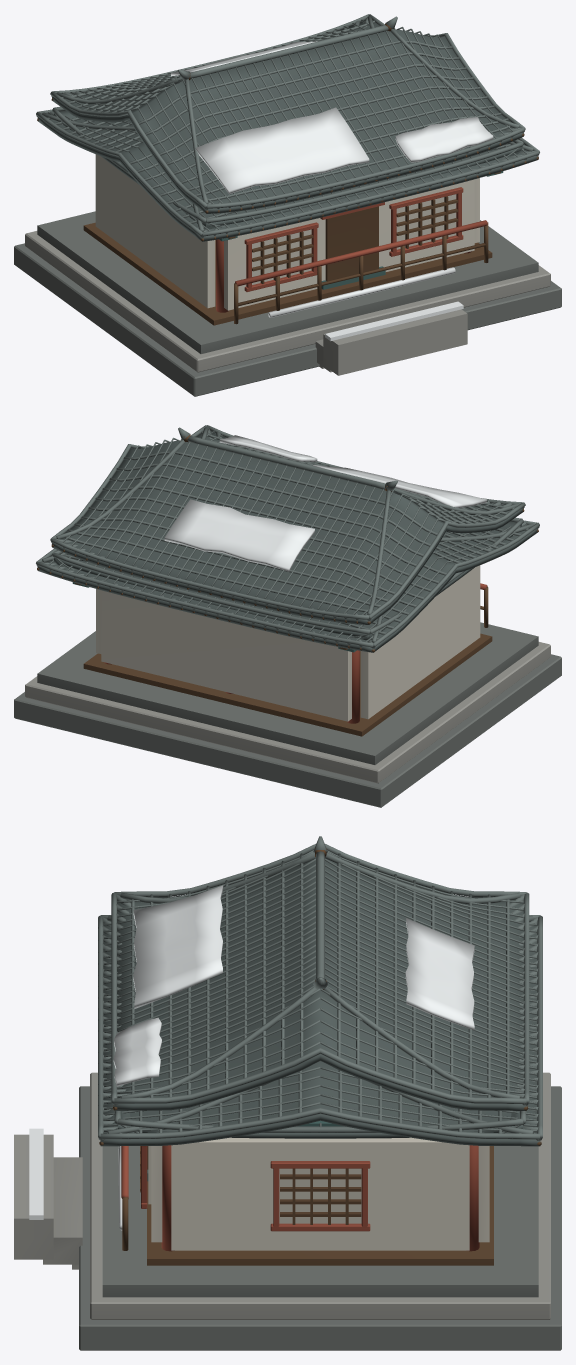
Rendered from projects.glb.
The picture shows the model from 3 angles, top to bottom: view 1: azimuth 30°, elevation 25°; view 2: azimuth 150°, elevation 25°; view 3: azimuth 270°, elevation 25°; orthographic projection. The views are drawn at different scales.
Parts seen in each view (by area): view 1: projects_building, snow_projects_winter; view 2: projects_building, snow_projects_winter; view 3: projects_building, snow_projects_winter.
Part boxes in pixels (x1=…): projects_building: x1=14, y1=14, x2=561, y2=396; snow_projects_winter: x1=171, y1=41, x2=493, y2=341; projects_building: x1=14, y1=425, x2=561, y2=807; snow_projects_winter: x1=164, y1=435, x2=486, y2=571; projects_building: x1=14, y1=836, x2=561, y2=1350; snow_projects_winter: x1=29, y1=885, x2=474, y2=1230.
Bounding box in the file's own units: 6.27 × 3.96 × 6.06.
